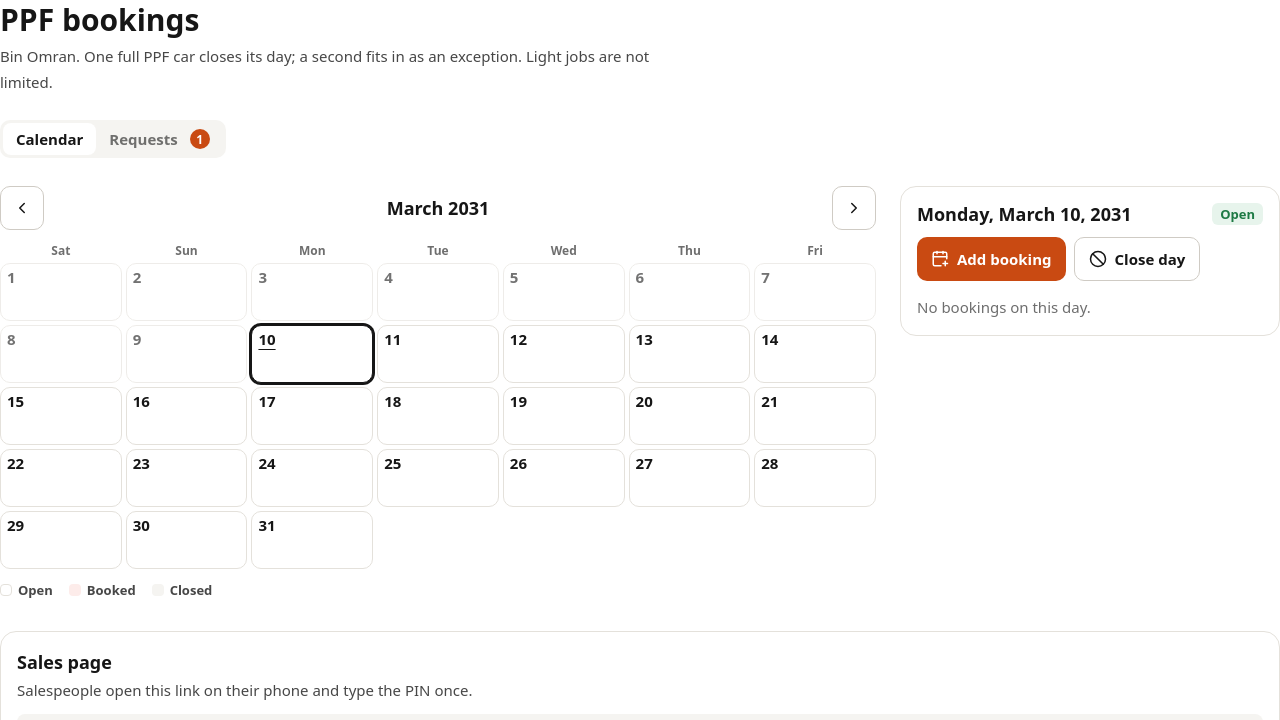
Test: PPF requests inbox › approves a request
The width and height of the screenshot is (1280, 720).
Click the tab "Requests 1" at (160, 139), box left=96, top=122, right=223, bottom=155
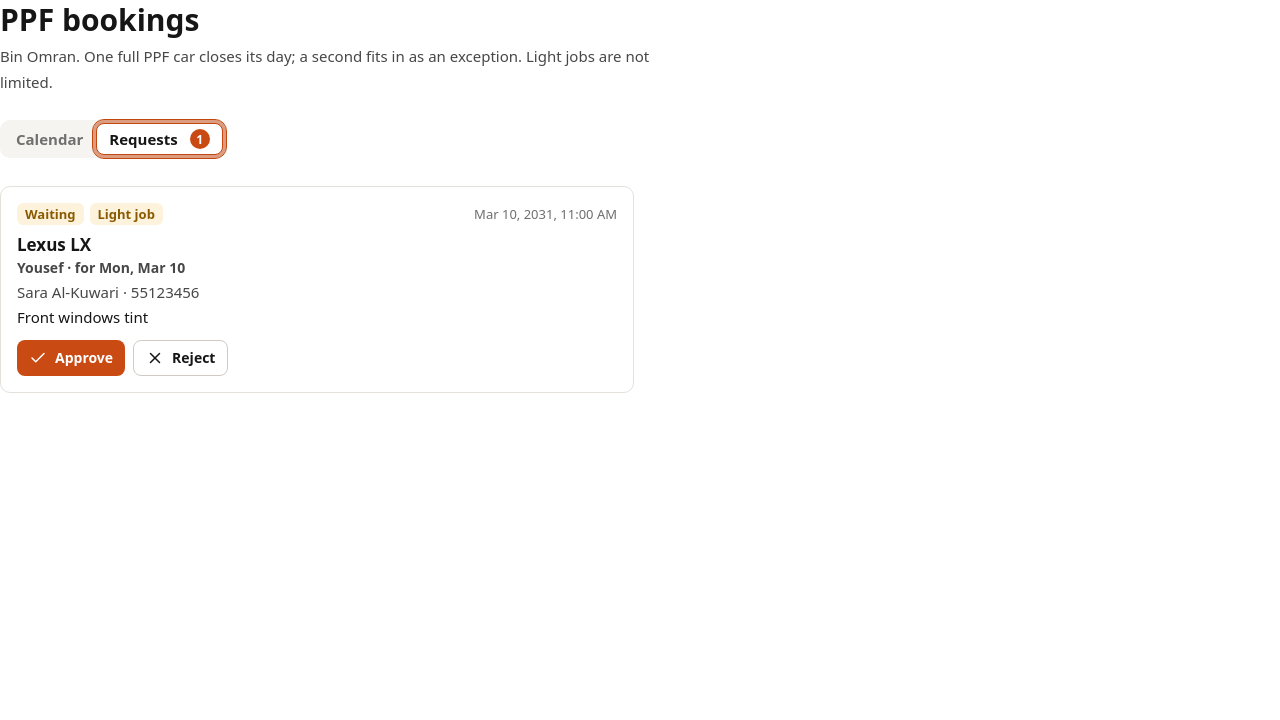
Click the button "Approve" at (71, 358), box left=17, top=340, right=125, bottom=376
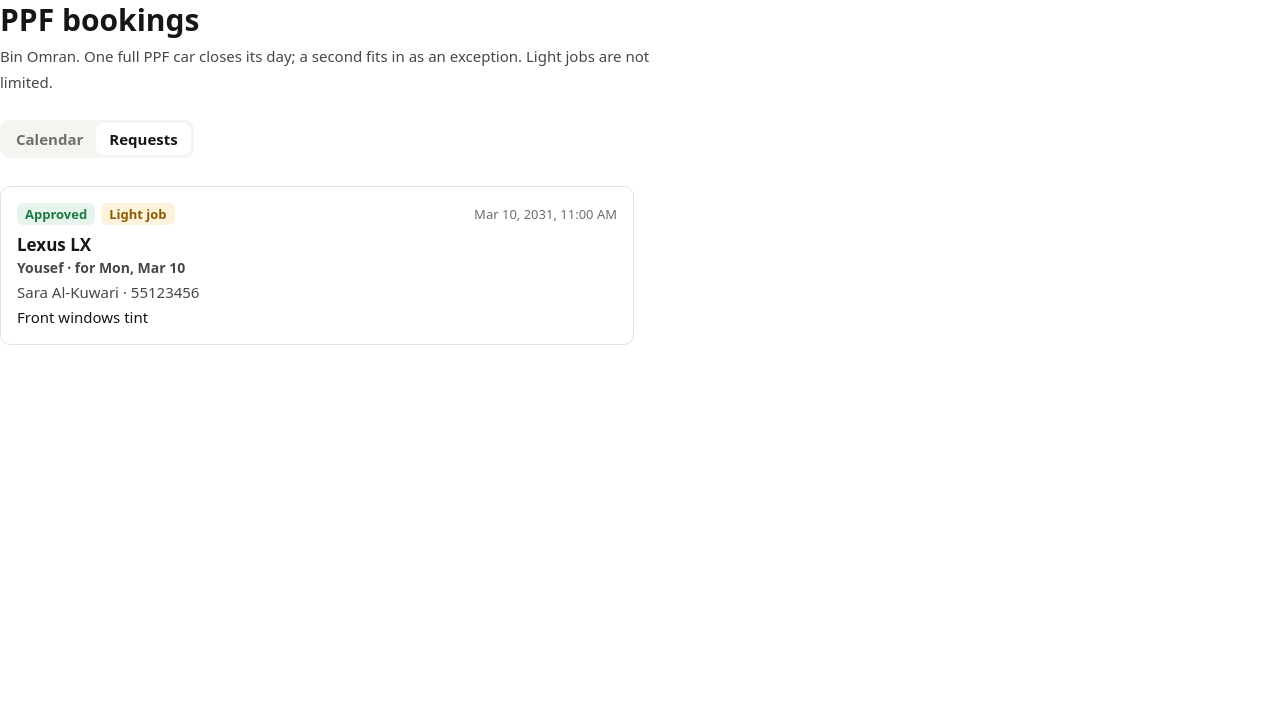
Expected: the tab "Requests" is shown, left=96, top=122, right=191, bottom=155
Now the text "Approved" is shown, box left=17, top=203, right=95, bottom=225
